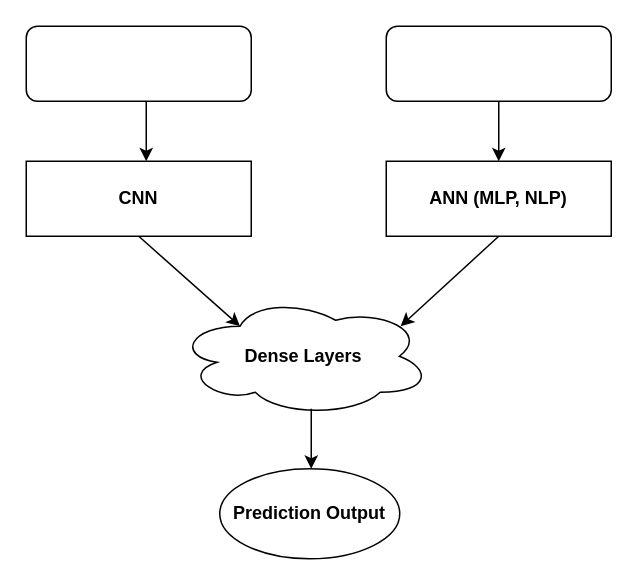
Some shapes in this 638 by 585 pixel diagram are drawn without their labels. The shapes that lost their labels are listed below. From the top down, each one's centre as x and y in pixels, then its label:
At point (138, 63): "Image Data".
At point (498, 63): "Non-Image Data".
